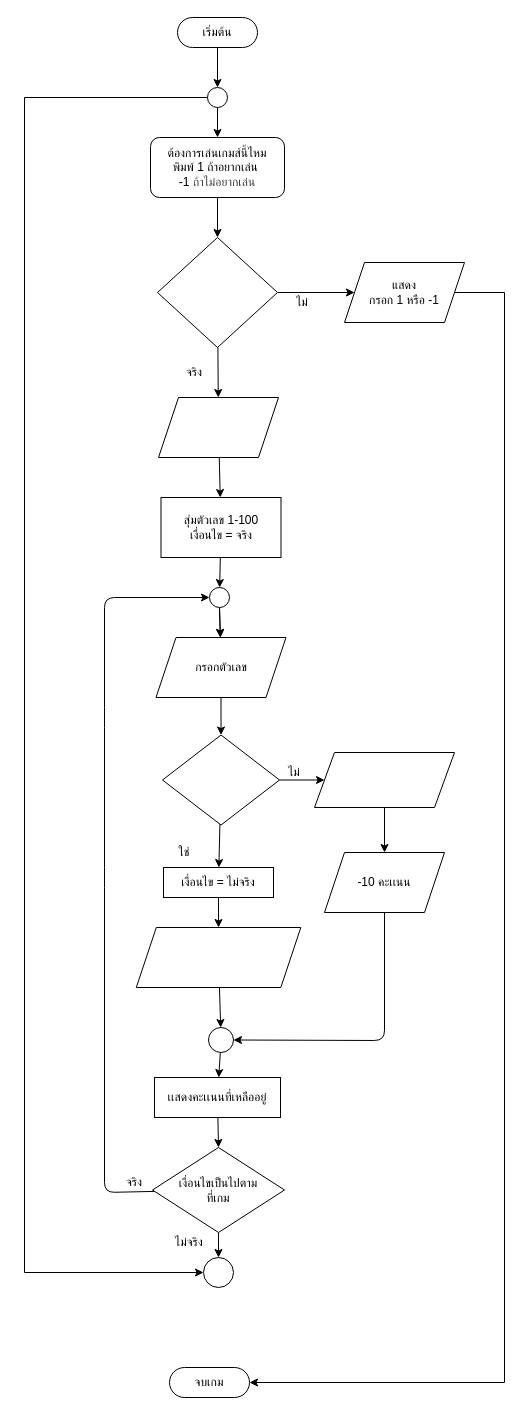
Some shapes in this 530 by 1415 pixel diagram are drawn without their labels. The centre of each missing label's shape, as x and y in pixels:
คำตอบถูกหรือไม่: (x=221, y=779)
ค่าที่ได้รับมาเป็น 1 หรือ -1 หรือไม่: (x=217, y=292)
มีคะเเนนอยู่ 100: (x=218, y=427)
เเสดงค่าว่าตอบถูกต้อง: (x=218, y=957)
แสดงค่าบอกว่า มากกว่าหรือน้อยกว่า จากตัวเลขที่เรากรอก ในการเล่น: (x=384, y=780)
